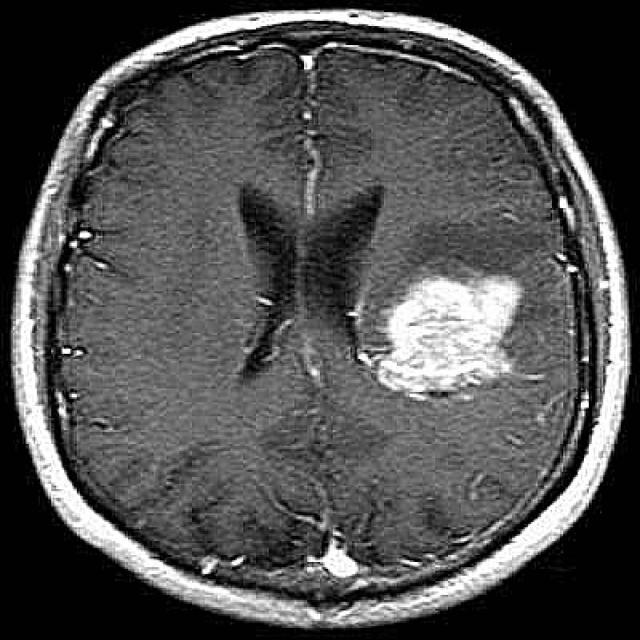Tumor-Cell: (386, 245, 513, 421)
